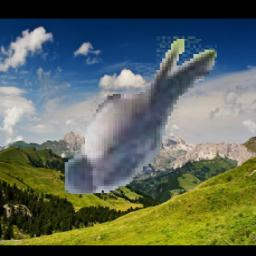Swallow: (65, 36, 217, 194)
